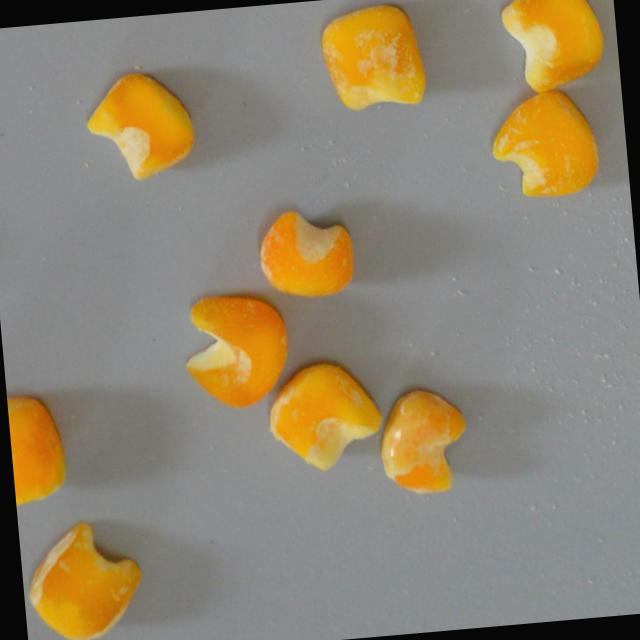pelicula: (22, 514, 146, 640), (264, 357, 383, 476), (82, 67, 197, 186), (486, 85, 603, 201), (181, 290, 290, 412), (315, 0, 427, 114), (375, 384, 473, 497), (498, 0, 608, 94), (254, 207, 355, 302), (6, 393, 68, 506)
